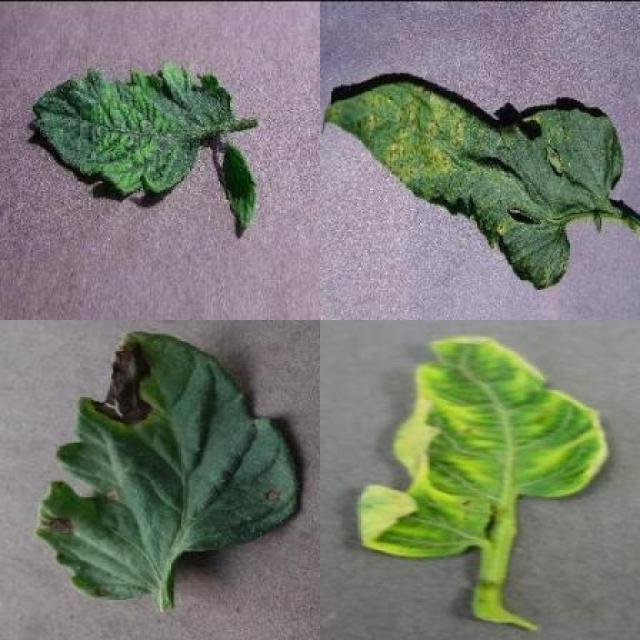Early Blight: (37, 328, 297, 603)
Mosaic Virus: (32, 59, 235, 194), (220, 149, 257, 234)
Septoria: (322, 80, 625, 290)
Yellow Leaf Curl Virus: (360, 334, 610, 560)
